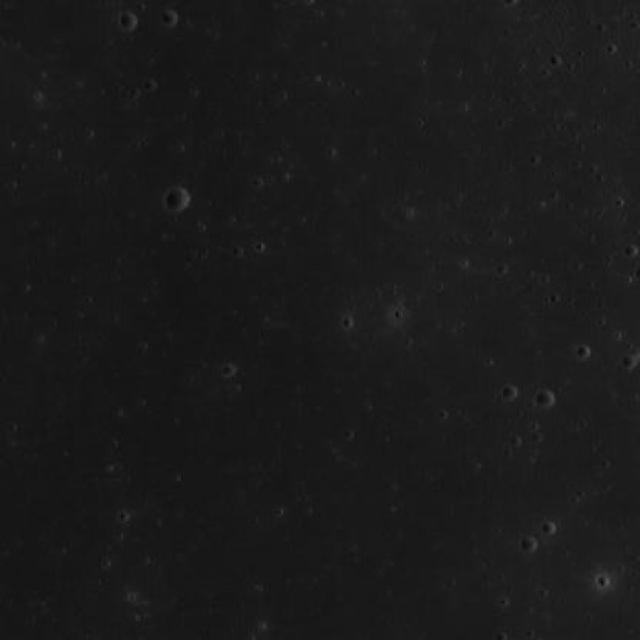crater: (166, 188, 187, 210), (534, 388, 554, 407), (500, 384, 518, 402), (119, 12, 136, 30), (621, 242, 637, 258)
